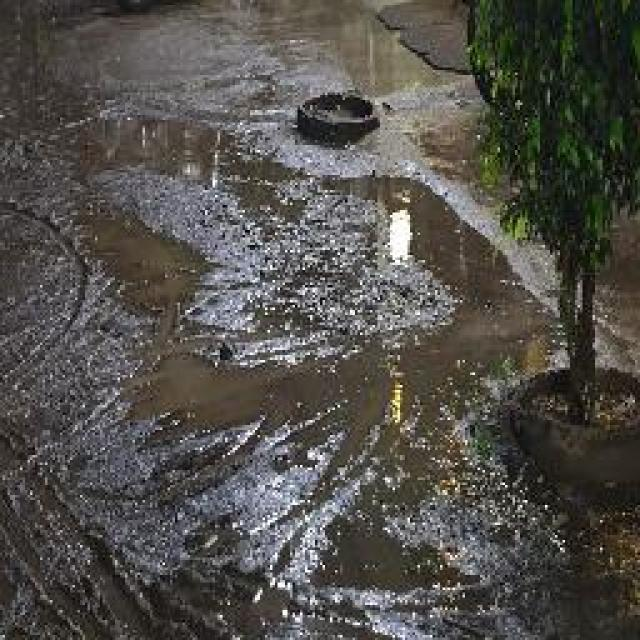stagnation: (104, 178, 486, 462)
